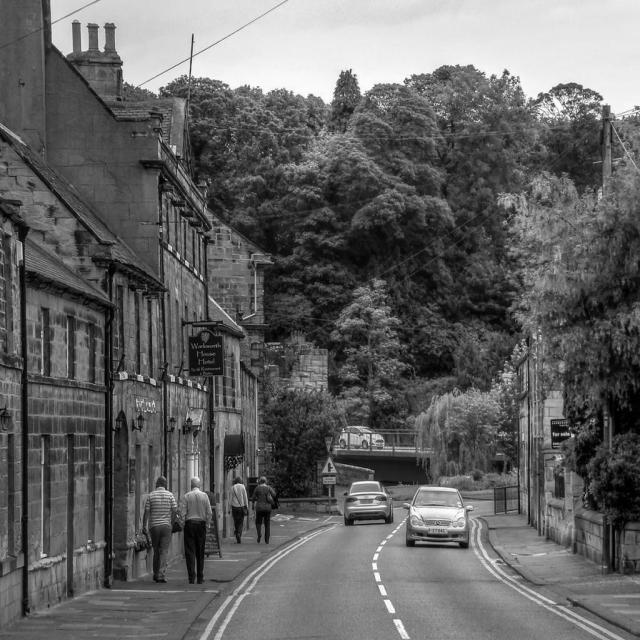plate: (428, 529, 448, 534), (360, 500, 373, 504)
